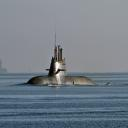submarine: (19, 45, 110, 86)
